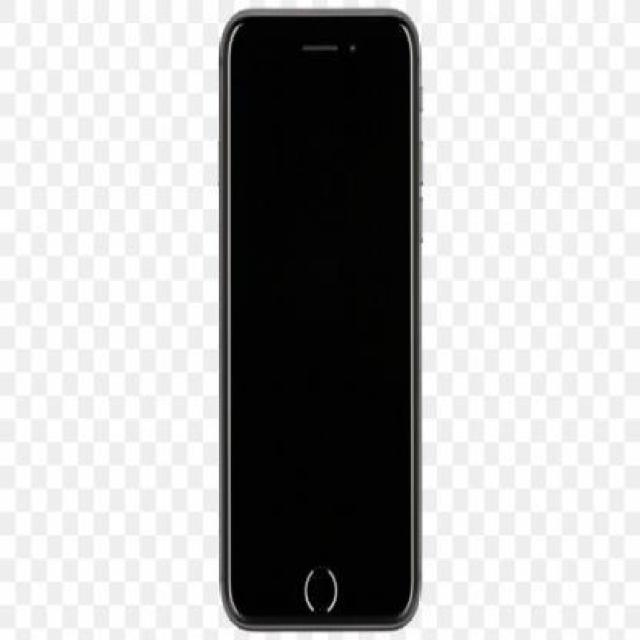mobile: (220, 3, 422, 632)
